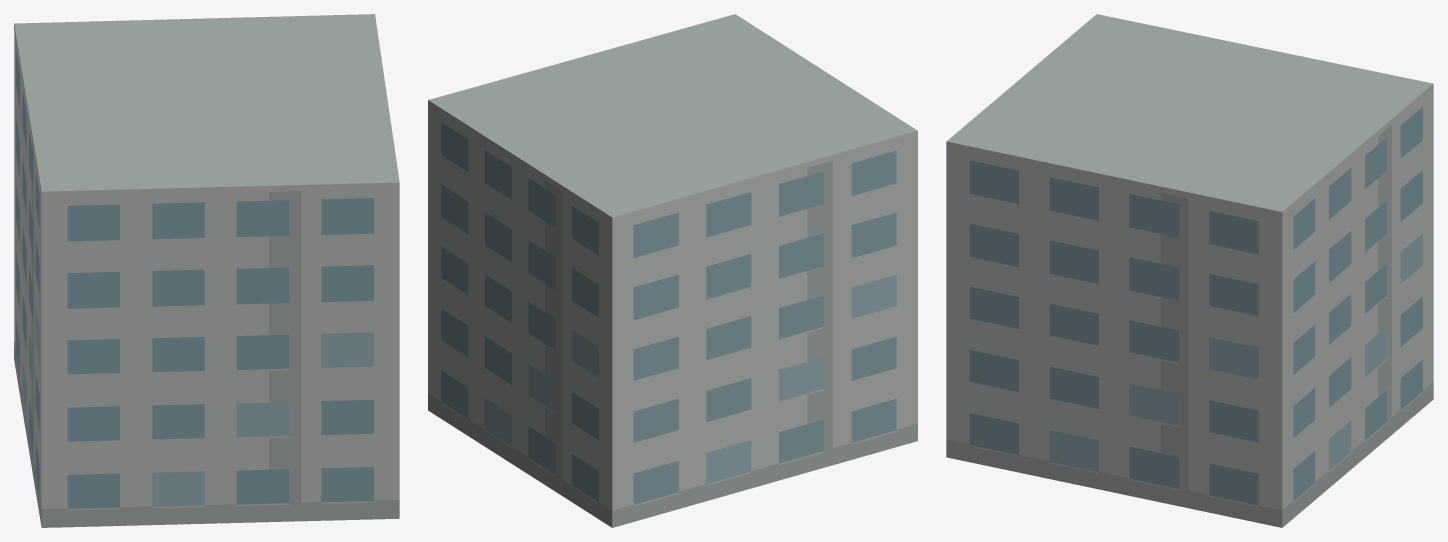
File: survey-upis-33002273.glb
The picture shows the model from 3 angles, left to right: view 1: azimuth 30°, elevation 25°; view 2: azimuth 150°, elevation 25°; view 3: azimuth 270°, elevation 25°; orthographic projection. The views are drawn at different scales.
Visible parts, largest first — view 1: survey-upis-33002273.tmp; view 2: survey-upis-33002273.tmp; view 3: survey-upis-33002273.tmp.
Part boxes in pixels (left/top/right/bottom): survey-upis-33002273.tmp: left=14, top=14, right=399, bottom=527; survey-upis-33002273.tmp: left=428, top=14, right=917, bottom=527; survey-upis-33002273.tmp: left=946, top=14, right=1433, bottom=527.
Size of the model in its own units: 17.89 by 13.3 by 18.6.
